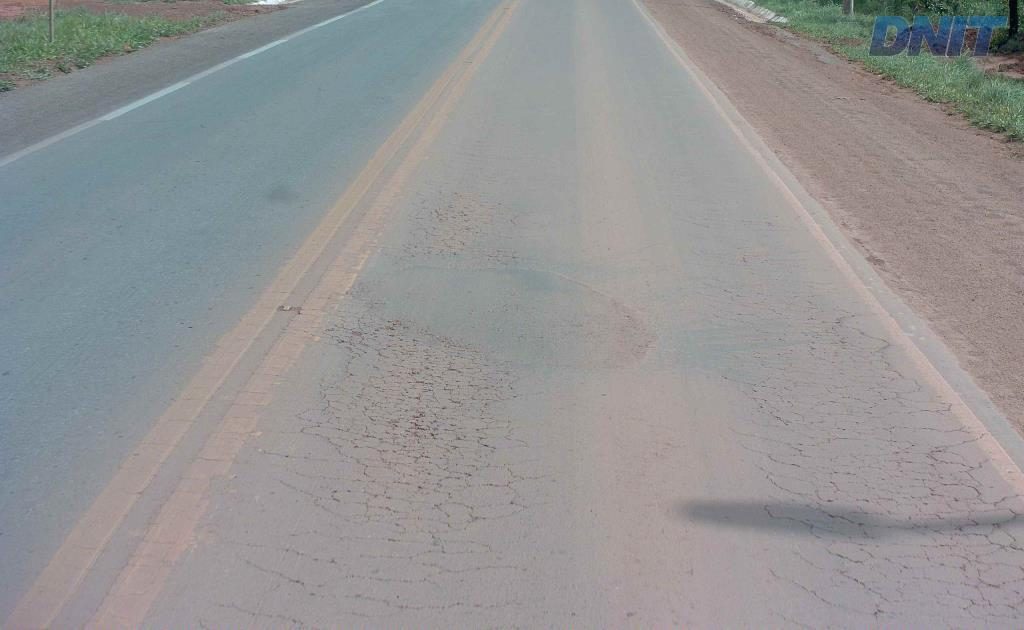crack: (322, 311, 522, 504), (913, 465, 988, 504), (886, 532, 1023, 552), (480, 247, 536, 279), (318, 380, 347, 416)
